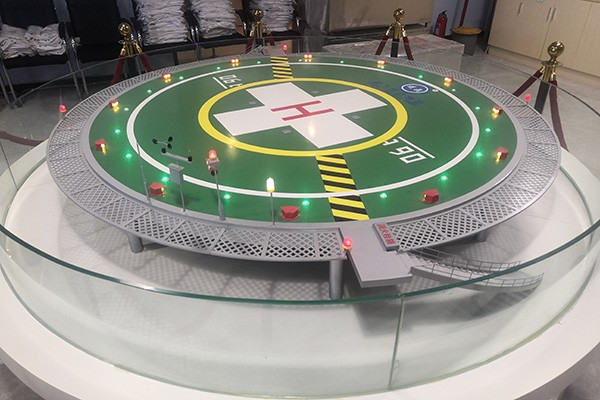H: (270, 101, 334, 122)
